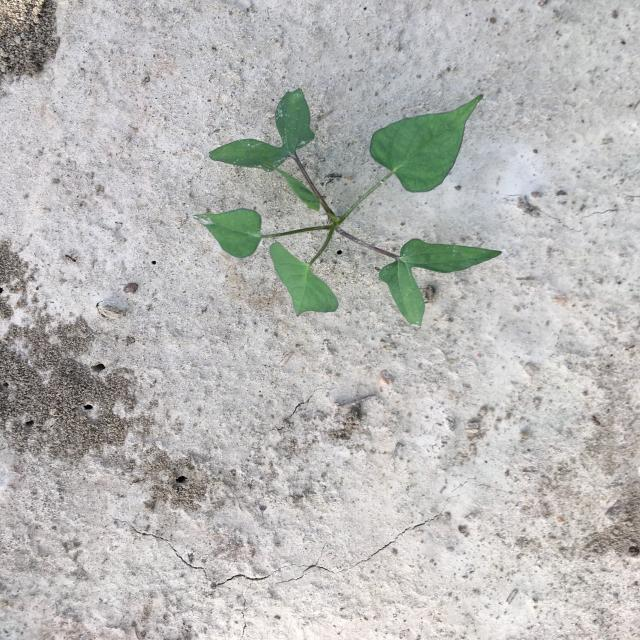MorningGlory: (192, 88, 502, 326)
